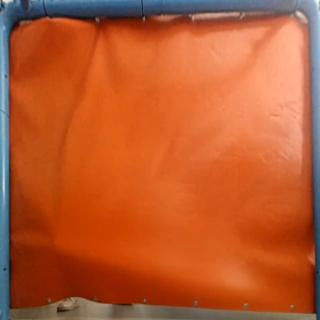Hit-hRxx: (48, 238, 64, 254)
